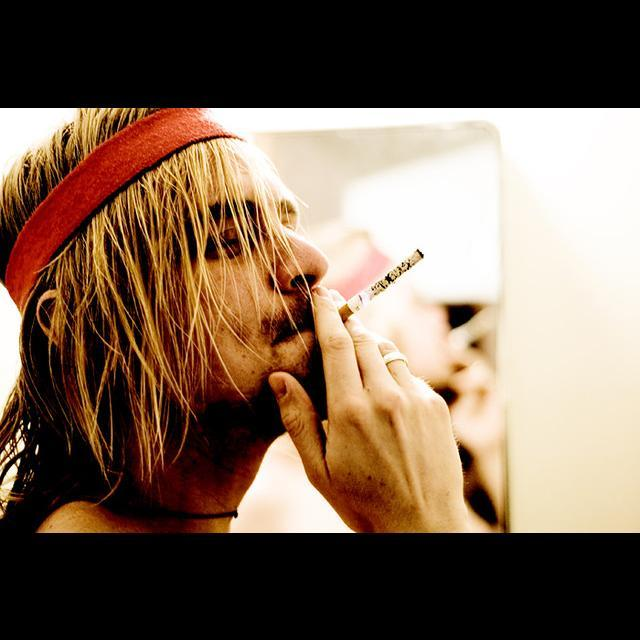rokok: (337, 248, 428, 324)
